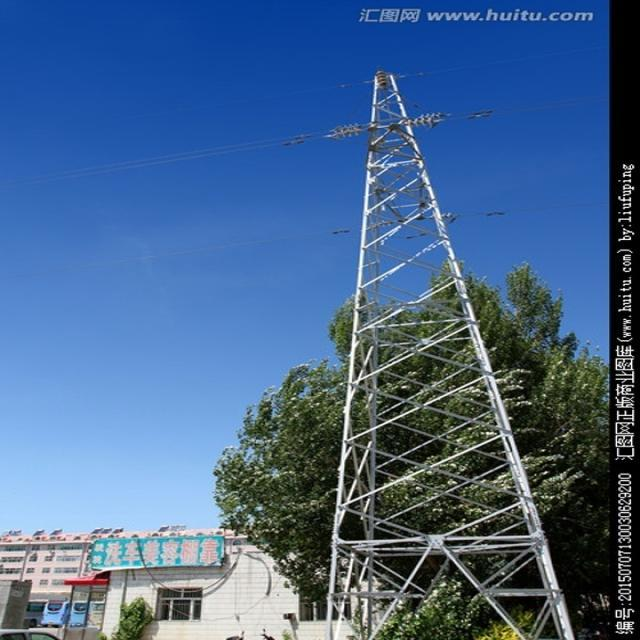non-critical vegetation: (357, 84, 570, 633)
